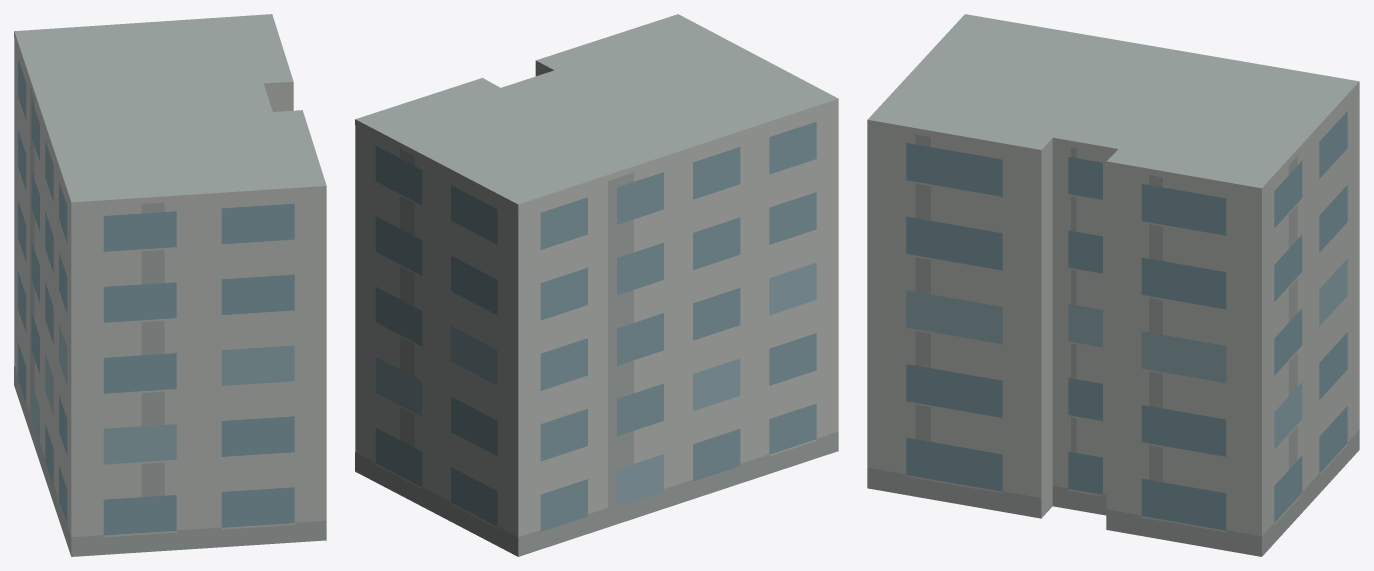
Rendered from survey-upis-32681408.glb.
The picture shows the model from 3 angles, left to right: view 1: azimuth 30°, elevation 25°; view 2: azimuth 150°, elevation 25°; view 3: azimuth 270°, elevation 25°; orthographic projection. The views are drawn at different scales.
Visible parts, largest first — view 1: survey-upis-32681408.tmp; view 2: survey-upis-32681408.tmp; view 3: survey-upis-32681408.tmp.
Boxes of the visible parts, box(x1,y1,x2,y2) form: survey-upis-32681408.tmp: box(14, 14, 326, 556); survey-upis-32681408.tmp: box(355, 14, 838, 556); survey-upis-32681408.tmp: box(867, 14, 1359, 556).
Size of the model in its own units: 14.31 by 14.1 by 17.07.
